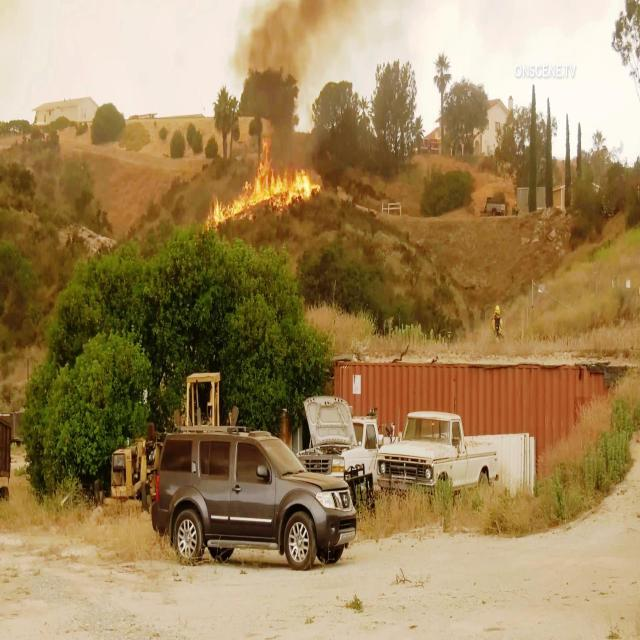Fire: (208, 150, 328, 230)
Smoke: (278, 0, 354, 89)
